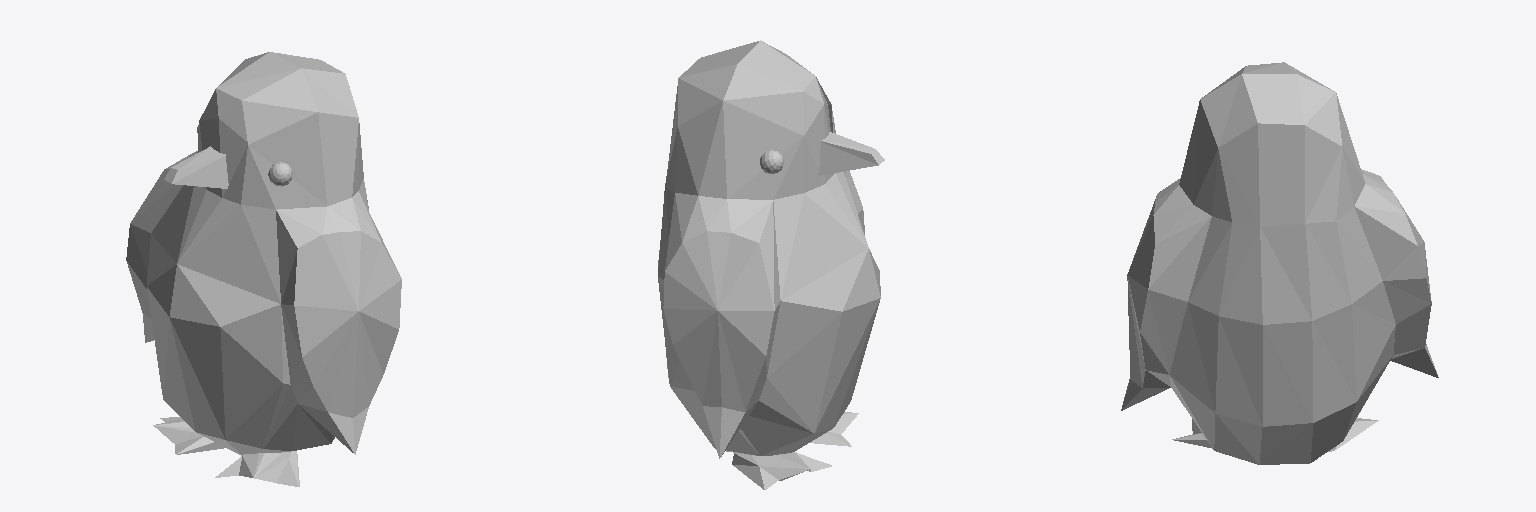
Rendered from penguin.obj.
3 views of the same model, side by side, from view 1: azimuth 30°, elevation 25°; view 2: azimuth 150°, elevation 25°; view 3: azimuth 270°, elevation 25° (orthographic).
Visible parts, largest first — view 1: group[number redacted], group[number redacted], group[number redacted], group[number redacted]; view 2: group[number redacted], group[number redacted], group[number redacted], group[number redacted]; view 3: group[number redacted].
Part boxes in pixels (bbox=[...]): group[number redacted]: bbox=[126, 52, 401, 455]; group[number redacted]: bbox=[215, 451, 299, 486]; group[number redacted]: bbox=[164, 146, 228, 188]; group[number redacted]: bbox=[153, 417, 224, 454]; group[number redacted]: bbox=[658, 40, 880, 458]; group[number redacted]: bbox=[732, 452, 831, 489]; group[number redacted]: bbox=[819, 132, 884, 175]; group[number redacted]: bbox=[810, 412, 858, 446]; group[number redacted]: bbox=[1121, 62, 1438, 464].
Bounding box in the file's own units: 0.3678 × 0.6759 × 0.4997.